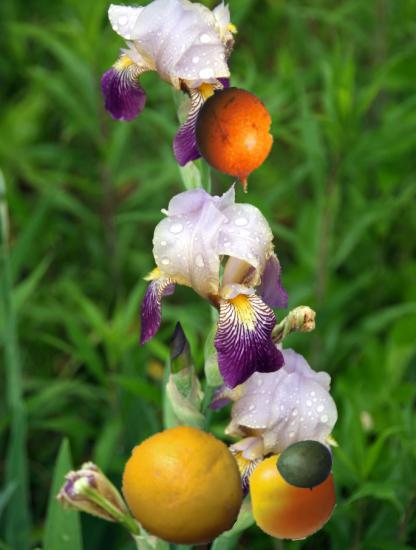Cherry: (249, 452, 338, 541)
Granadilla: (181, 87, 289, 195)
Grapefruit: (121, 423, 247, 549)
Mango: (276, 437, 334, 495)
